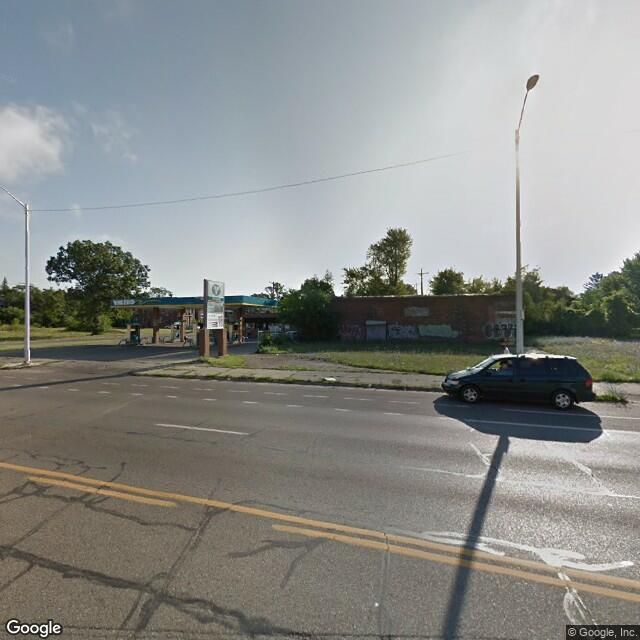litter: (319, 374, 340, 383)
